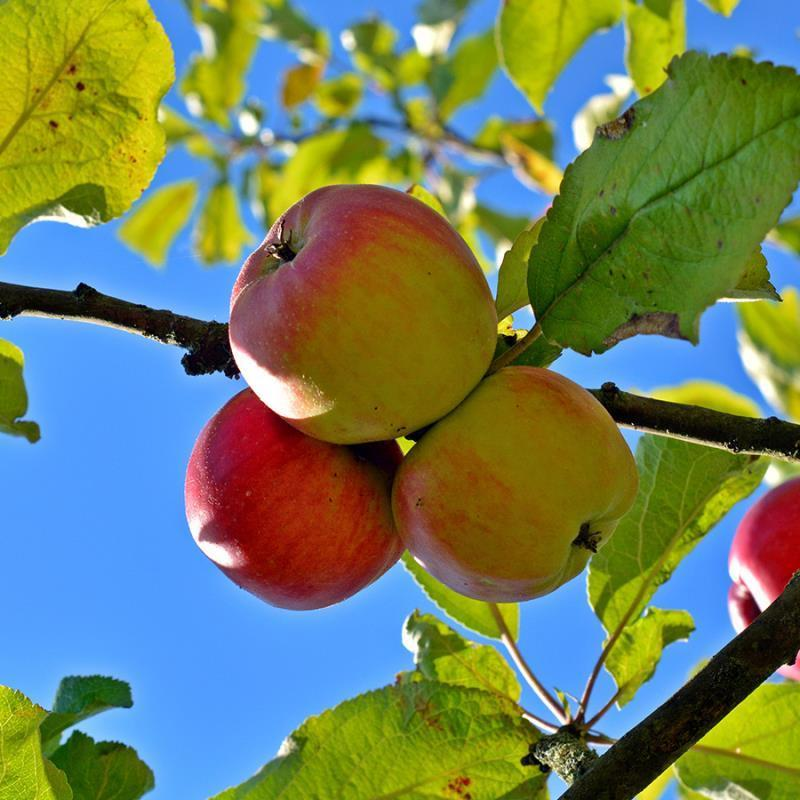apple: (227, 191, 491, 458), (387, 365, 641, 608), (186, 408, 401, 625)
